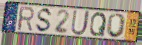2: (54, 9, 71, 36)
O: (105, 13, 127, 39)
Q: (89, 12, 108, 38)
R: (17, 6, 35, 33)
S: (35, 7, 54, 34)
U: (70, 9, 91, 37)
